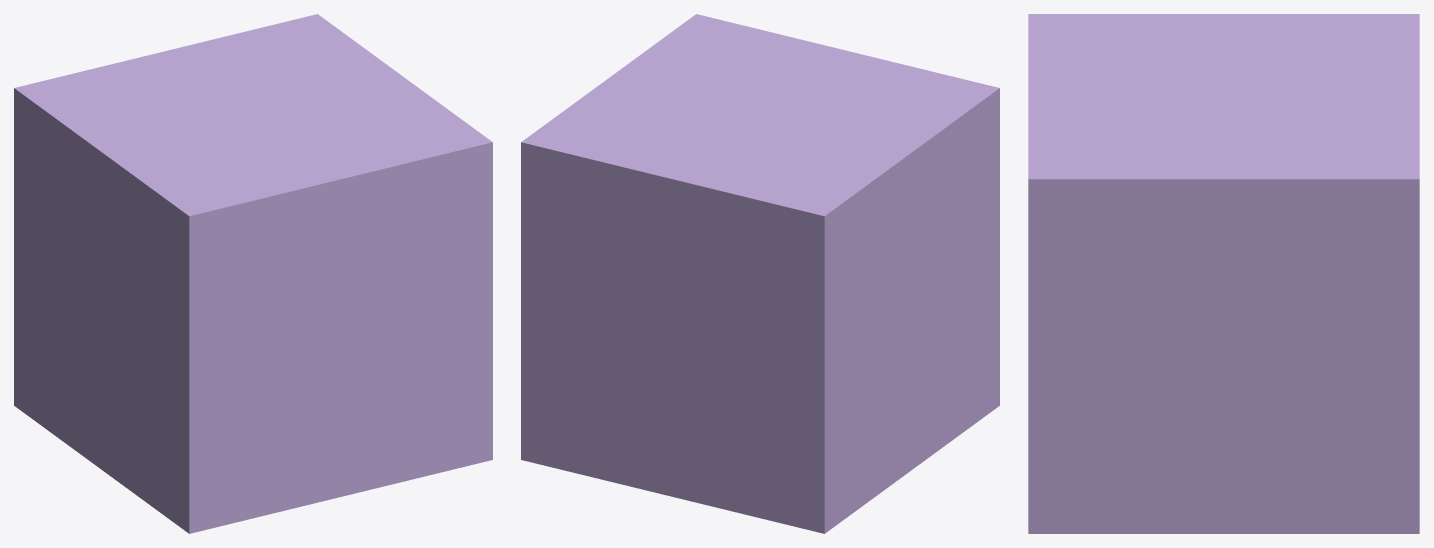
3 views of the same model, side by side, from view 1: azimuth 30°, elevation 25°; view 2: azimuth 150°, elevation 25°; view 3: azimuth 270°, elevation 25° (orthographic). The views are drawn at different scales.
Parts seen in each view (by area): view 1: Cube; view 2: Cube; view 3: Cube.
Boxes of the visible parts, bbox=[...] form: Cube: bbox=[14, 14, 492, 533]; Cube: bbox=[521, 14, 999, 533]; Cube: bbox=[1028, 14, 1419, 533].
Bounding box in the file's own units: 0.83 × 0.83 × 0.83.
